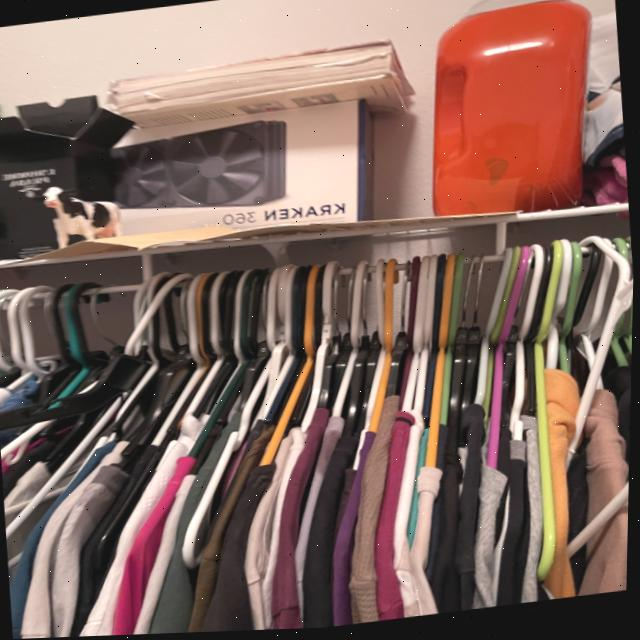cow: (42, 174, 127, 250)
